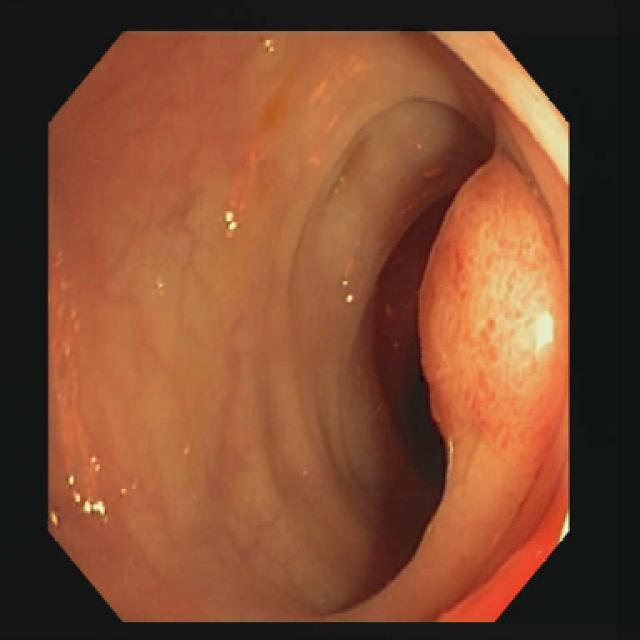tumor: (420, 156, 567, 469)
